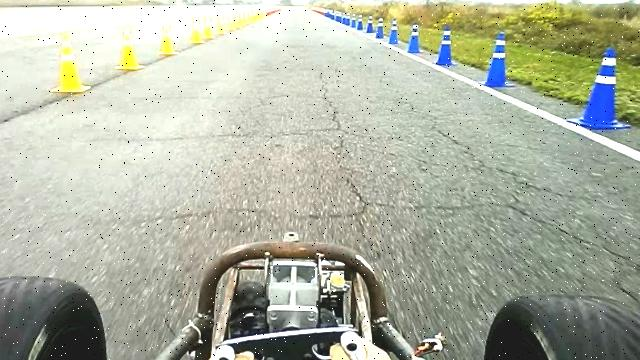blue cone: (567, 46, 631, 130), (479, 31, 516, 88), (435, 25, 457, 66), (407, 23, 423, 53), (388, 18, 400, 44), (375, 18, 385, 38)
yellow cone: (50, 32, 91, 94), (116, 25, 144, 71), (158, 20, 178, 55), (190, 16, 204, 44), (202, 15, 215, 39), (216, 14, 227, 35)
